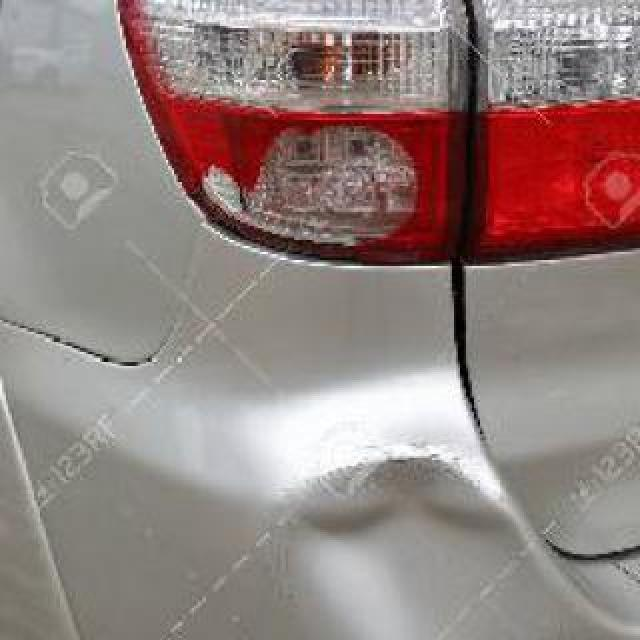car damage: (275, 451, 597, 637), (194, 366, 506, 517)
